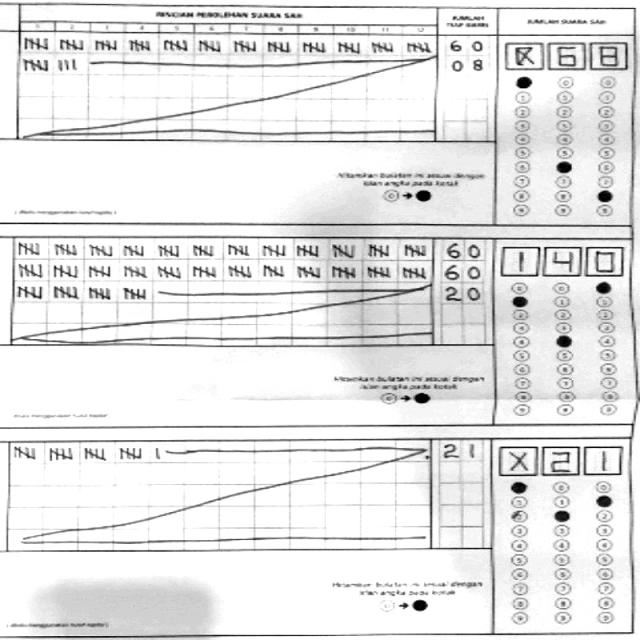Suara: (500, 35, 633, 74), (498, 238, 630, 277), (495, 441, 628, 479)
